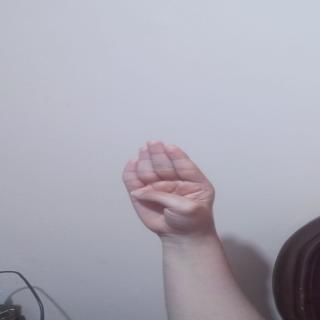KAAF: (106, 137, 237, 243)
